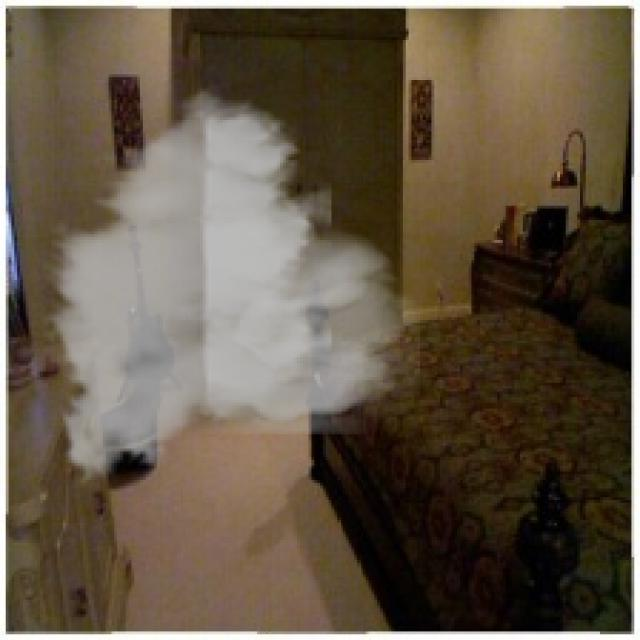Smoke: (37, 77, 420, 497)
